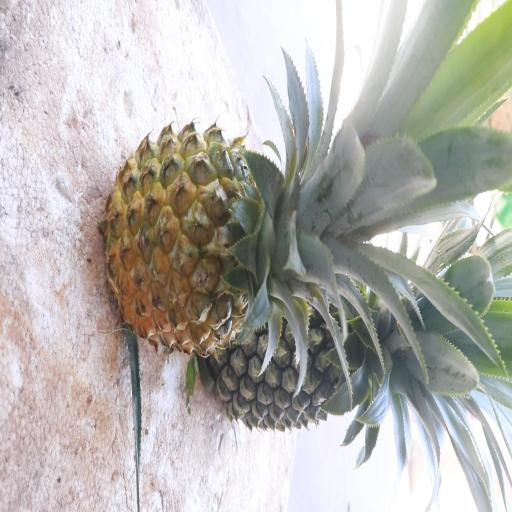Pineapple - v8 v1: (101, 120, 358, 355)
